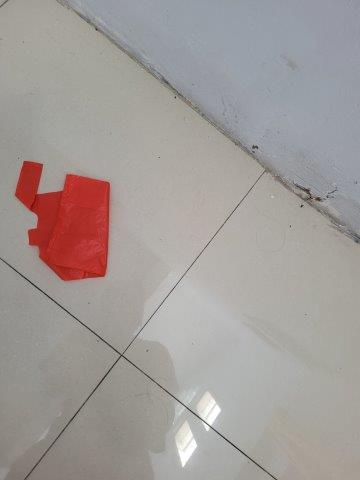plastik: (13, 160, 109, 282)
